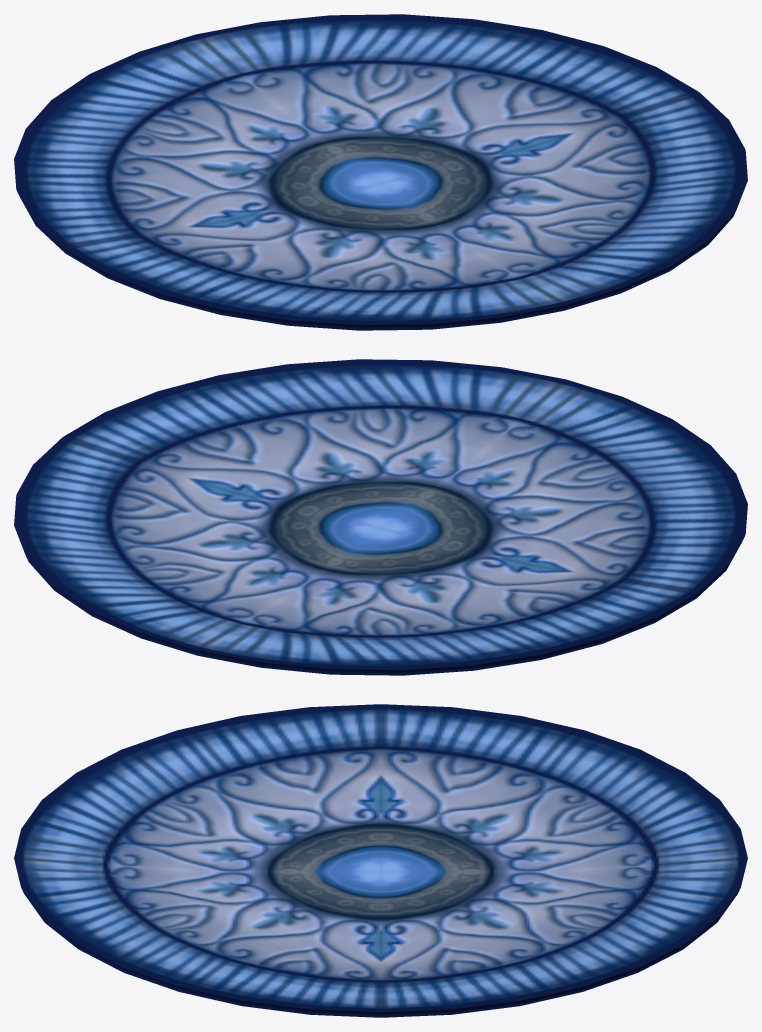
Rendered from Decor_Plate.fbx.
3 views of the same model, one above another, from view 1: azimuth 30°, elevation 25°; view 2: azimuth 150°, elevation 25°; view 3: azimuth 270°, elevation 25° (orthographic).
Visible parts, largest first — view 1: Smooth_Plate4; view 2: Smooth_Plate4; view 3: Smooth_Plate4.
Part boxes in pixels (left/top/right/bottom): Smooth_Plate4: left=14, top=14, right=747, bottom=330; Smooth_Plate4: left=14, top=359, right=747, bottom=675; Smooth_Plate4: left=14, top=704, right=747, bottom=1017.
Size of the model in its own units: 4.79 by 0.2418 by 4.82.
